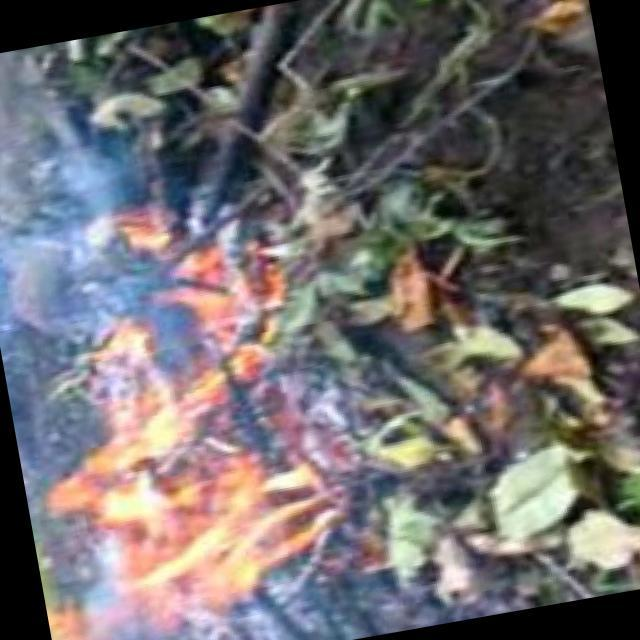Fire: (4, 199, 347, 640)
